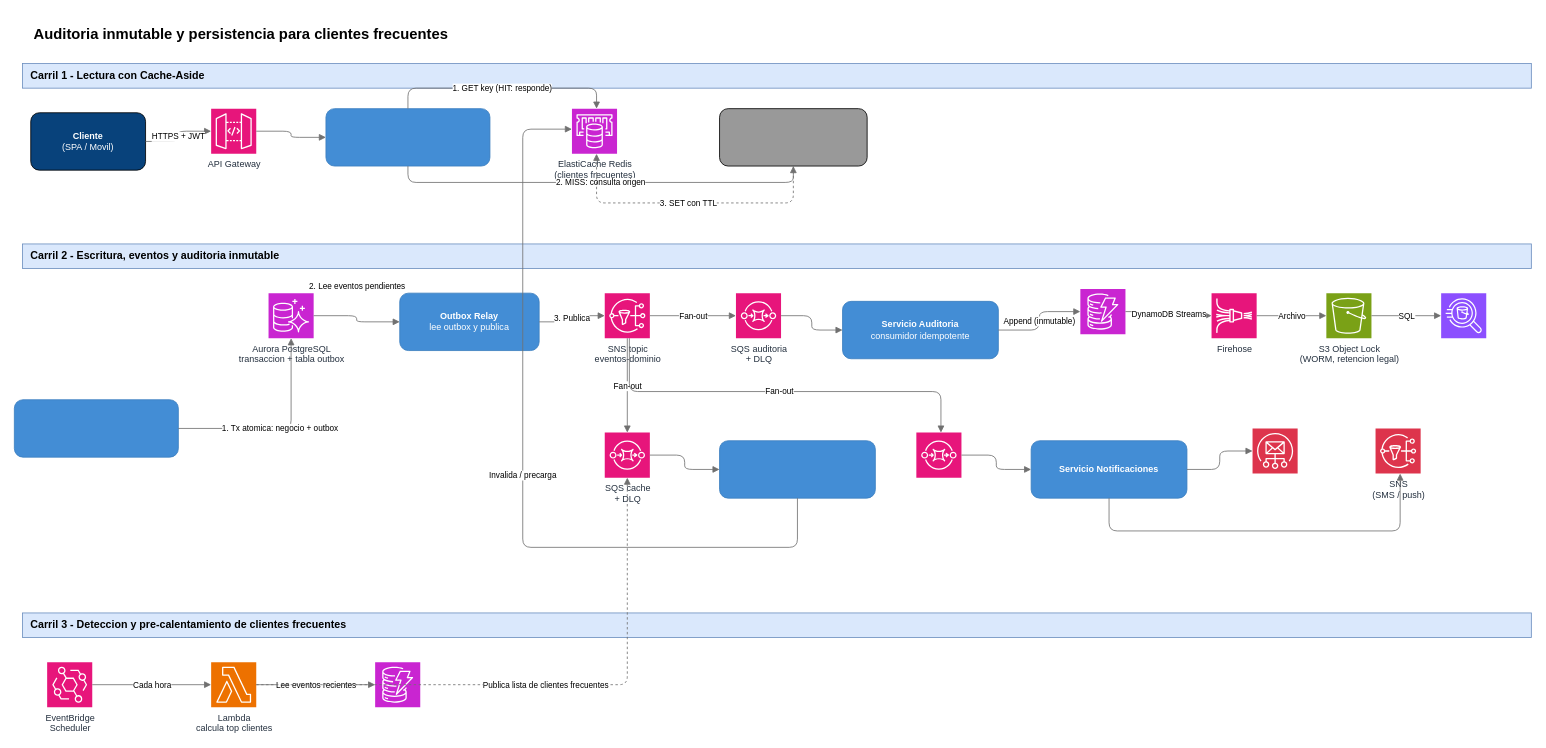
Image size: 1546x748. Some labels were removed from this diagram. Here are the shapes that lost their labels. From the top down, the centre of each, then its label:
(x=407, y=137): Servicio Movimientos CQRS - lado lectura
(x=793, y=137): Core / Aurora origen de datos
(x=1102, y=311): DynamoDB (eventos append-only) PK cliente, SK timestamp
(x=1463, y=315): Athena (consulta del auditor)
(x=96, y=428): Servicio Transferencias Saga + idempotencia
(x=797, y=469): CacheWarmer invalida y precarga
(x=938, y=455): SQS notificaciones + DLQ
(x=1275, y=451): SES (correo)
(x=397, y=684): DynamoDB agregados de uso
